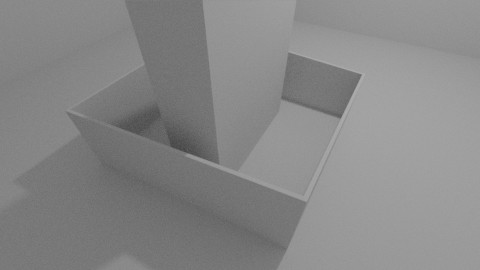cheminee: (124, 1, 296, 194)
eaf: (70, 110, 304, 245)
